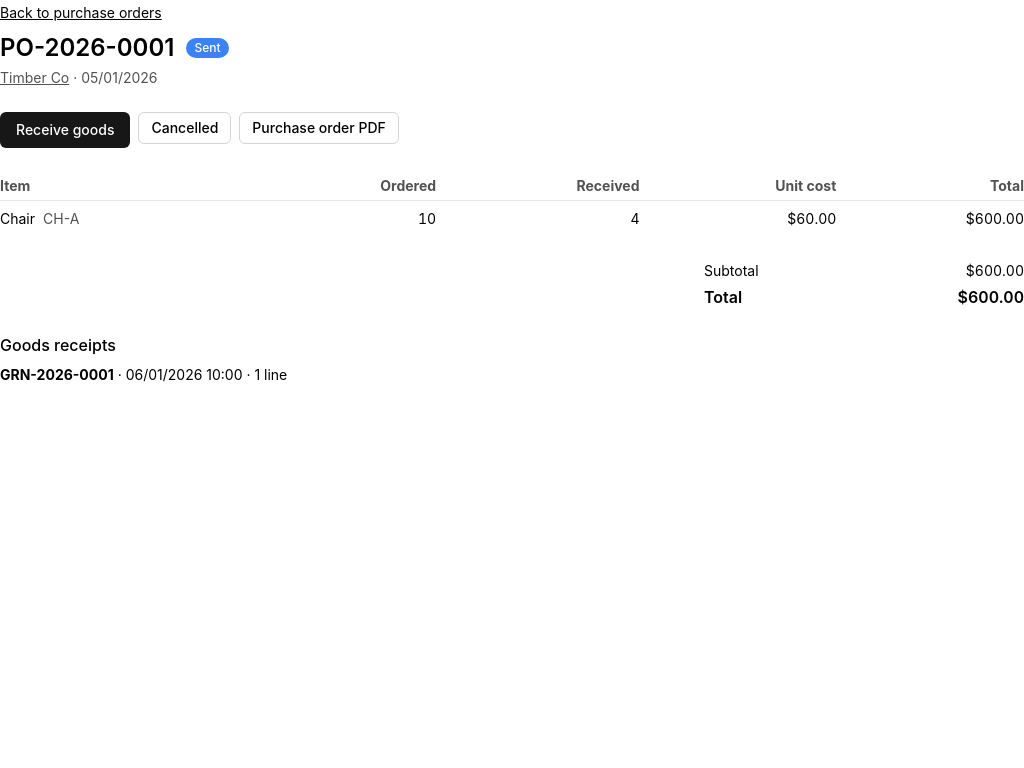
it: PurchaseDetail › refuses to send more than was ordered unless the person may approve
Step 1. Click the button "Receive goods" → (65, 130), box [0, 112, 130, 148]
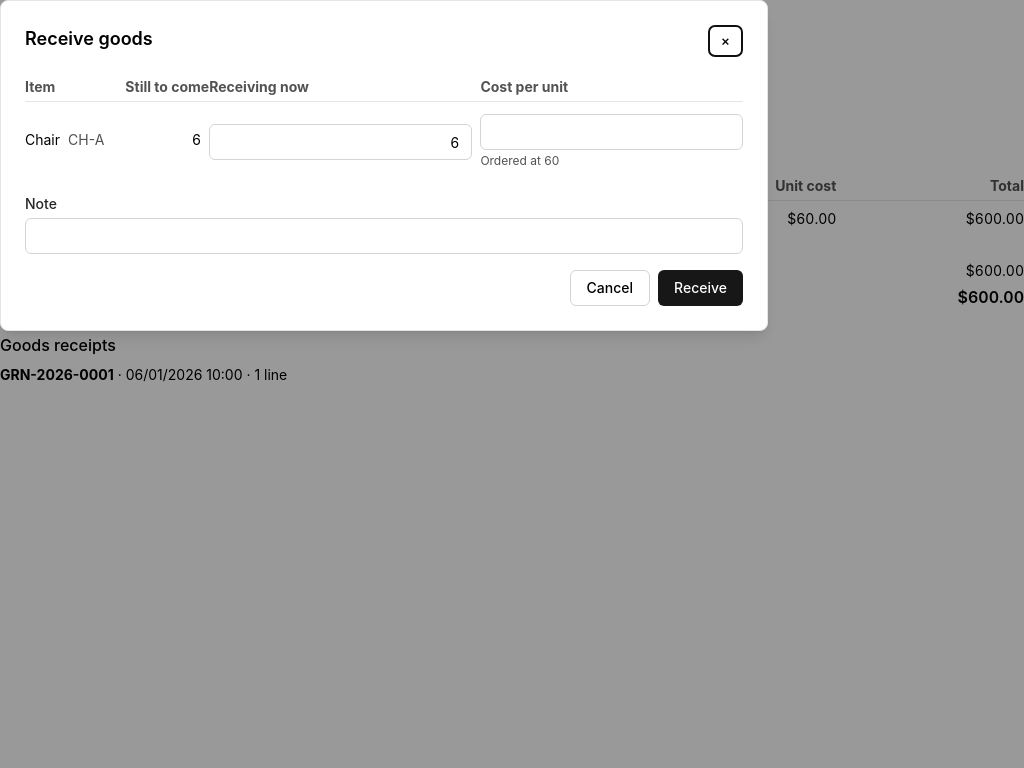
Step 2. Replace the text in the 2nd field named "Quantity received for CH-A" with "9" → (341, 142), box [209, 124, 472, 160]
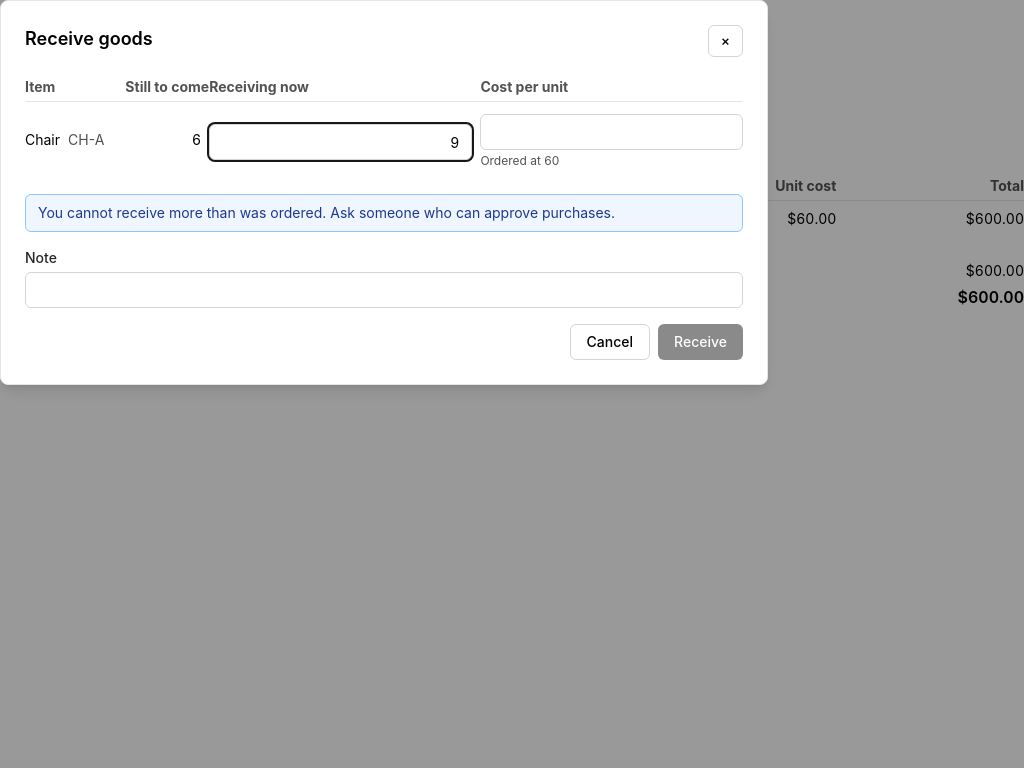
Result: the button "Receive" is disabled at [658, 324, 743, 360]
Result: the text "cannot receive more than was ordered" is shown at [38, 204, 615, 221]
